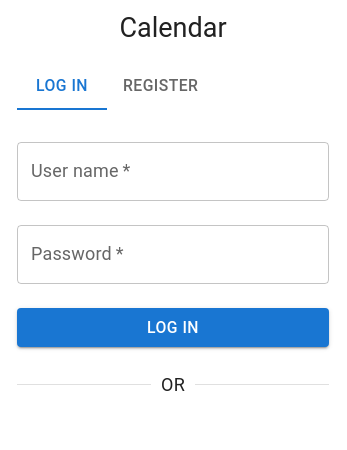
Test: LoginForm › sähköpostikenttä näkyy vain rekisteröitymisessä
expect the field labelled "E-mail" is not shown: met
Click the tab "Register" at (161, 86), box [107, 62, 214, 110]
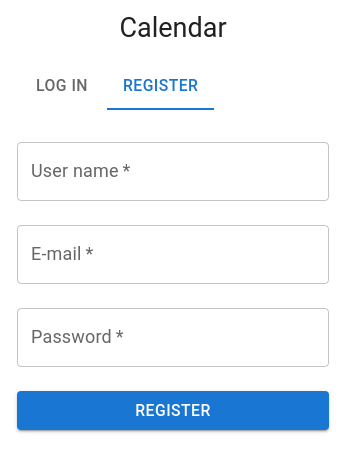
expect the field labelled "E-mail *" is shown: met, box [17, 225, 329, 284]
